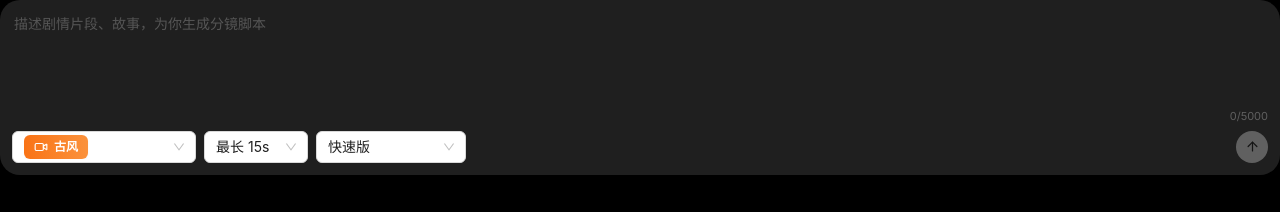
ScriptGenerator › 提交失败把错误落 settings.gen.error 并展示
Check: the text "古风" is shown, box [24,135,88,159]
Step 1. Type "剧本" into the text box with test id "script-generator-input" → [640, 60], box [12,12,1268,108]
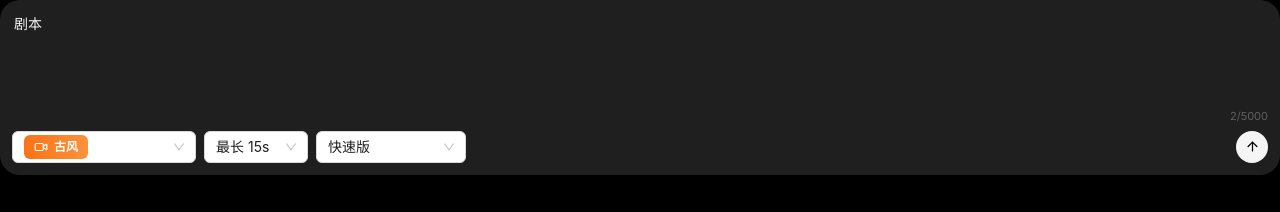
Step 2. Click the button with test id "script-generator-submit" → [1252, 147], box [1236,131,1268,163]
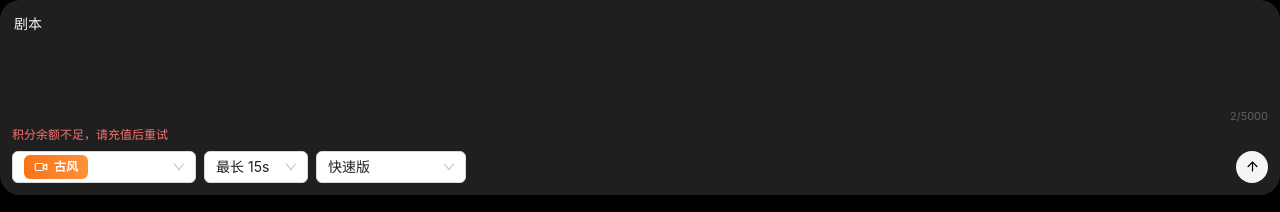
Check: the text with test id "script-generator-error" shows "积分余额不足", box [12,127,168,142]
